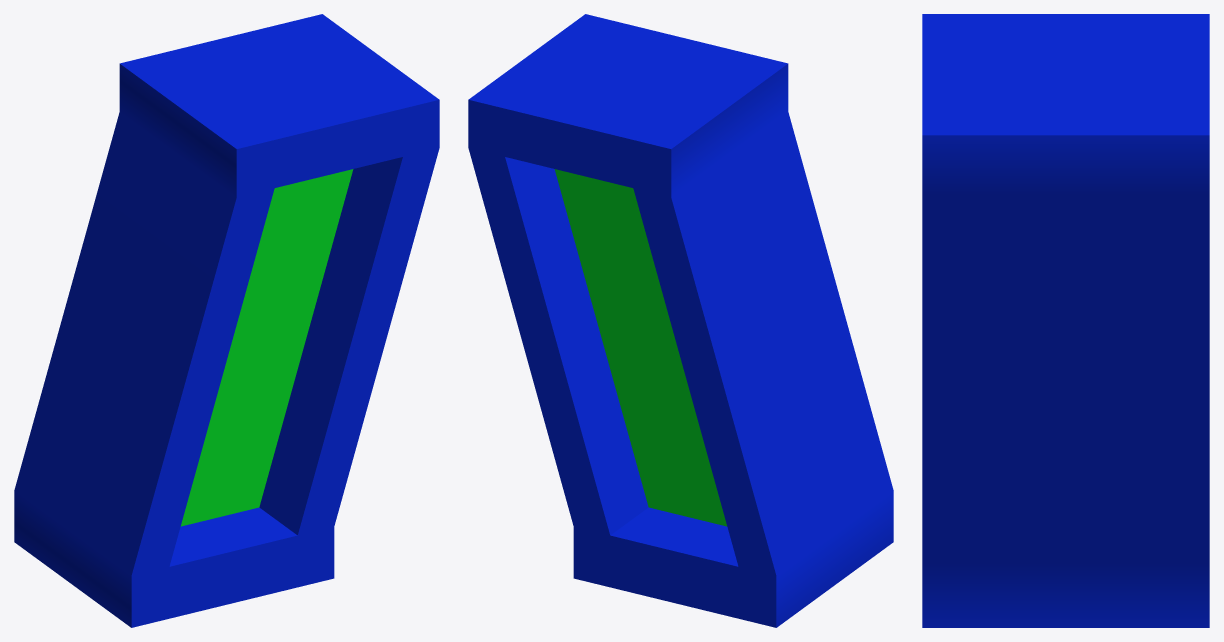
The model's file is GreenAmmo.fbx.
3 views of the same model, side by side, from view 1: azimuth 30°, elevation 25°; view 2: azimuth 150°, elevation 25°; view 3: azimuth 270°, elevation 25° (orthographic). The views are drawn at different scales.
Visible parts, largest first — view 1: pCube1; view 2: pCube1; view 3: pCube1.
Part boxes in pixels (x1=…): pCube1: x1=14, y1=14, x2=439, y2=627; pCube1: x1=468, y1=14, x2=893, y2=627; pCube1: x1=922, y1=14, x2=1209, y2=627.
Size of the model in its own units: 7.38 by 10.37 by 4.86.
